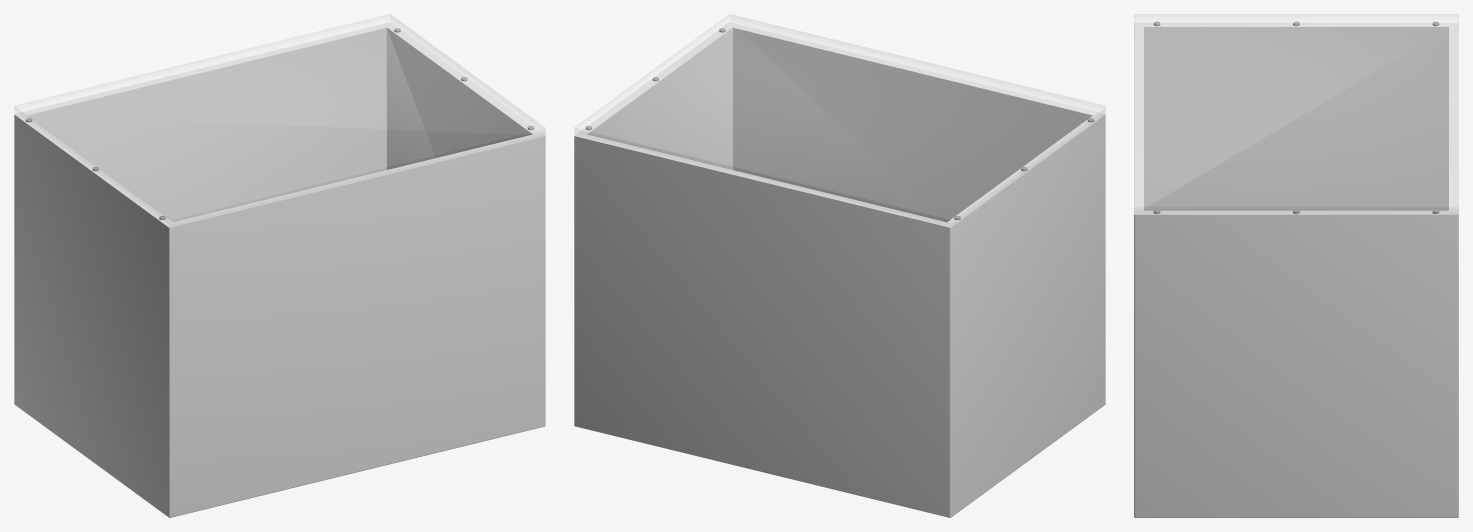
Rendered from acrylic-case-pop-ride.glb.
The picture shows the model from 3 angles, left to right: view 1: azimuth 30°, elevation 25°; view 2: azimuth 150°, elevation 25°; view 3: azimuth 270°, elevation 25°; orthographic projection. The views are drawn at different scales.
Visible parts, largest first — view 1: Cube, Cube.002; view 2: Cube, Cube.002; view 3: Cube, Cube.002.
Part boxes in pixels (x1,y1,x2,y2): Cube: (14,22,545,517); Cube.002: (14,14,545,226); Cube: (574,22,1105,517); Cube.002: (574,14,1105,226); Cube: (1134,22,1458,517); Cube.002: (1134,14,1458,213).
Size of the model in its own units: 0.27 by 0.205 by 0.193.
Materials: 4 (3 with a texture image).
